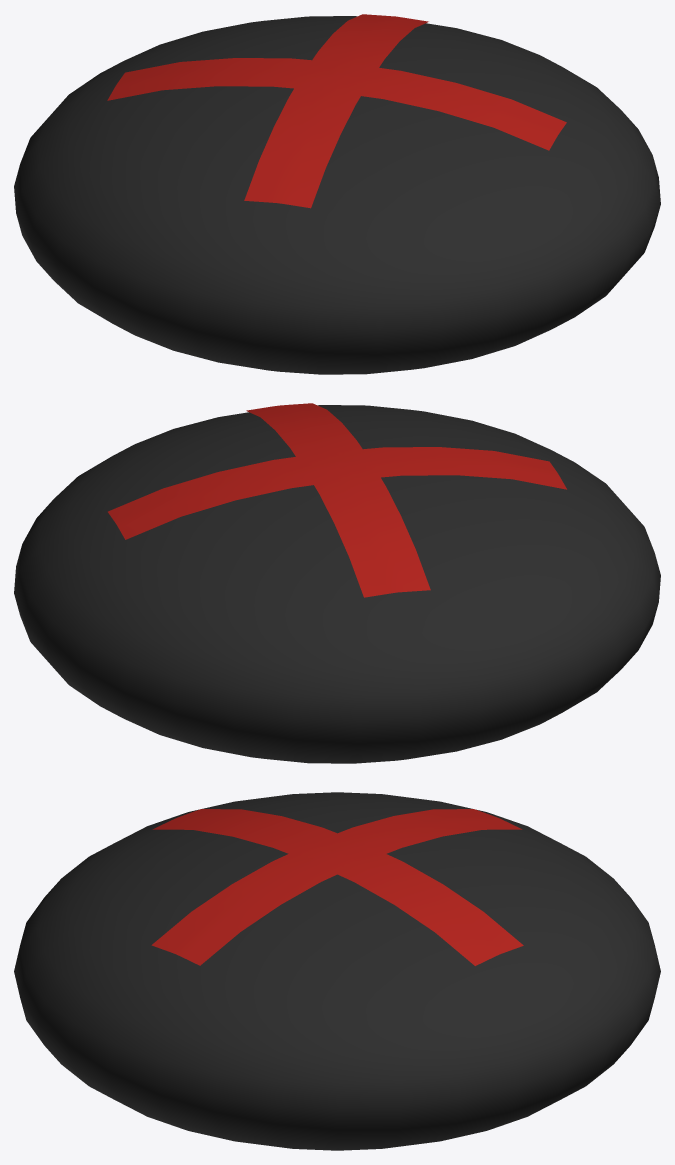
Rendered from FakeStone_B.fbx.
The picture shows the model from 3 angles, top to bottom: view 1: azimuth 30°, elevation 25°; view 2: azimuth 150°, elevation 25°; view 3: azimuth 270°, elevation 25°; orthographic projection.
Visible parts, largest first — view 1: FakeStone_B, Plane_B; view 2: FakeStone_B, Plane_B; view 3: FakeStone_B, Plane_B.
Part boxes in pixels (x1,y1,x2,y2): FakeStone_B: [14, 16, 660, 374]; Plane_B: [107, 14, 566, 208]; FakeStone_B: [14, 405, 660, 763]; Plane_B: [108, 403, 566, 597]; FakeStone_B: [14, 792, 660, 1150]; Plane_B: [151, 809, 523, 965].
Bounding box in the file's own units: 200 × 80.5 × 200.
